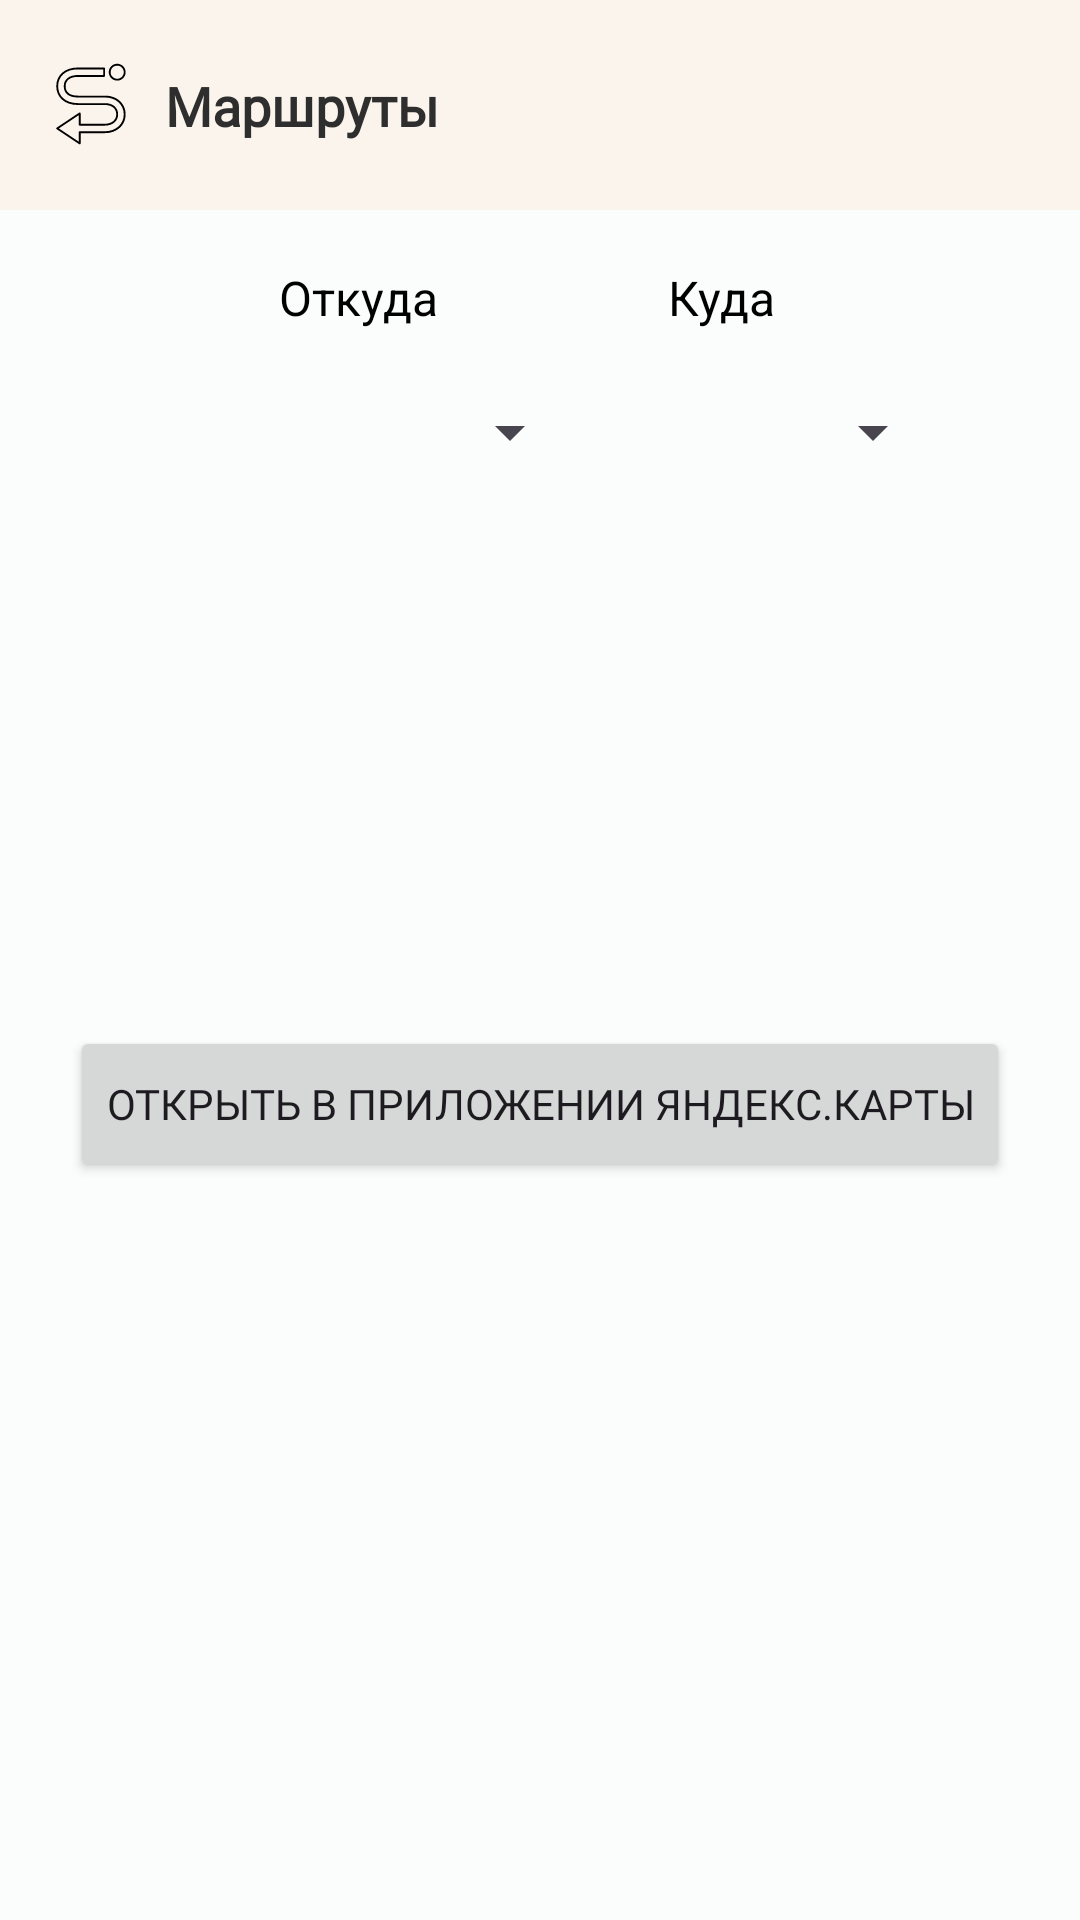

Icon click points for this 1080 × 1920 phone screenshot, format (x,y):
route: (91,104)
